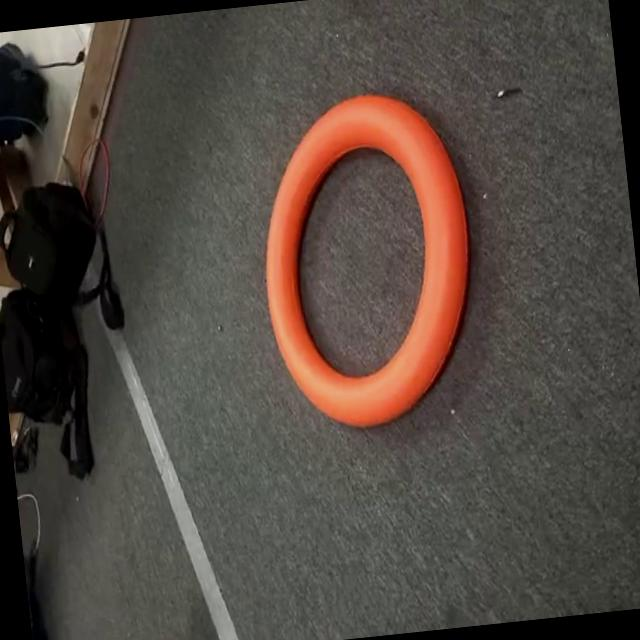note: (236, 70, 518, 446)
